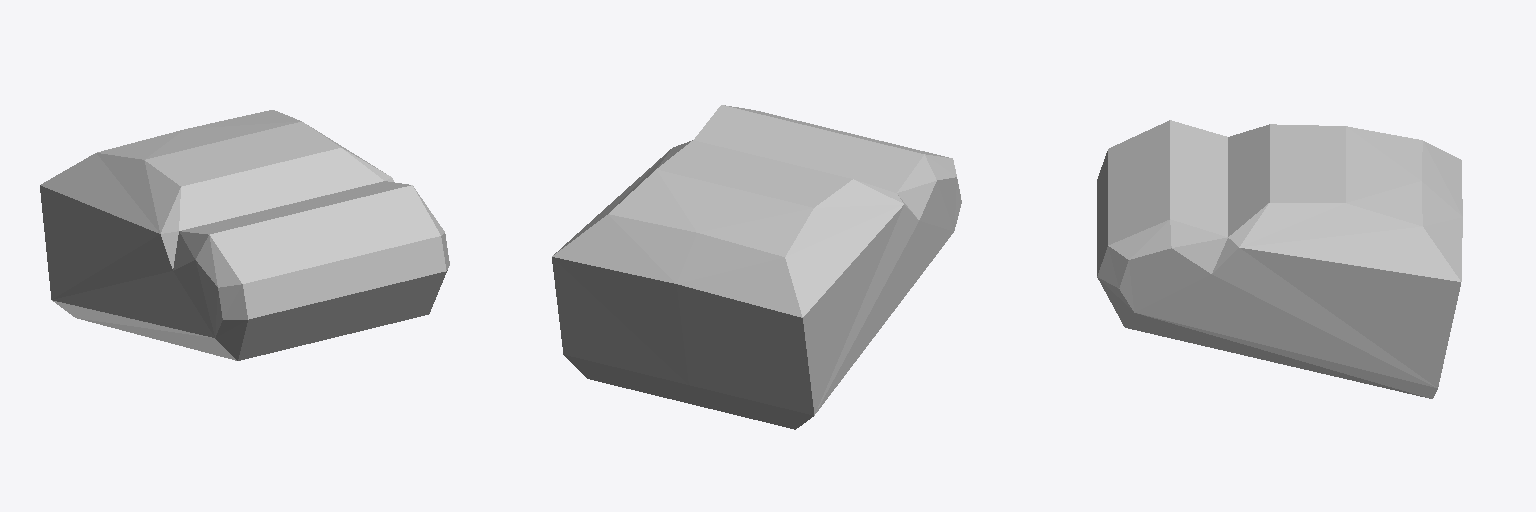
File: thumbj3_left.obj
3 views of the same model, side by side, from view 1: azimuth 30°, elevation 25°; view 2: azimuth 150°, elevation 25°; view 3: azimuth 270°, elevation 25° (orthographic).
Visible parts, largest first — view 1: Cylinder_001; view 2: Cylinder_001; view 3: Cylinder_001.
Boxes of the visible parts, x1,y1,x2,y2 form: Cylinder_001: [40, 110, 449, 360]; Cylinder_001: [552, 105, 961, 429]; Cylinder_001: [1097, 120, 1462, 398].
Bounding box in the file's own units: 0.021 × 0.0148 × 0.0265.